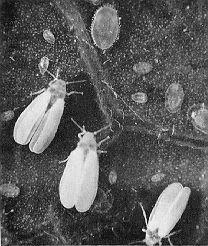whitefly: (13, 68, 75, 153), (59, 119, 110, 212), (129, 184, 192, 246)
